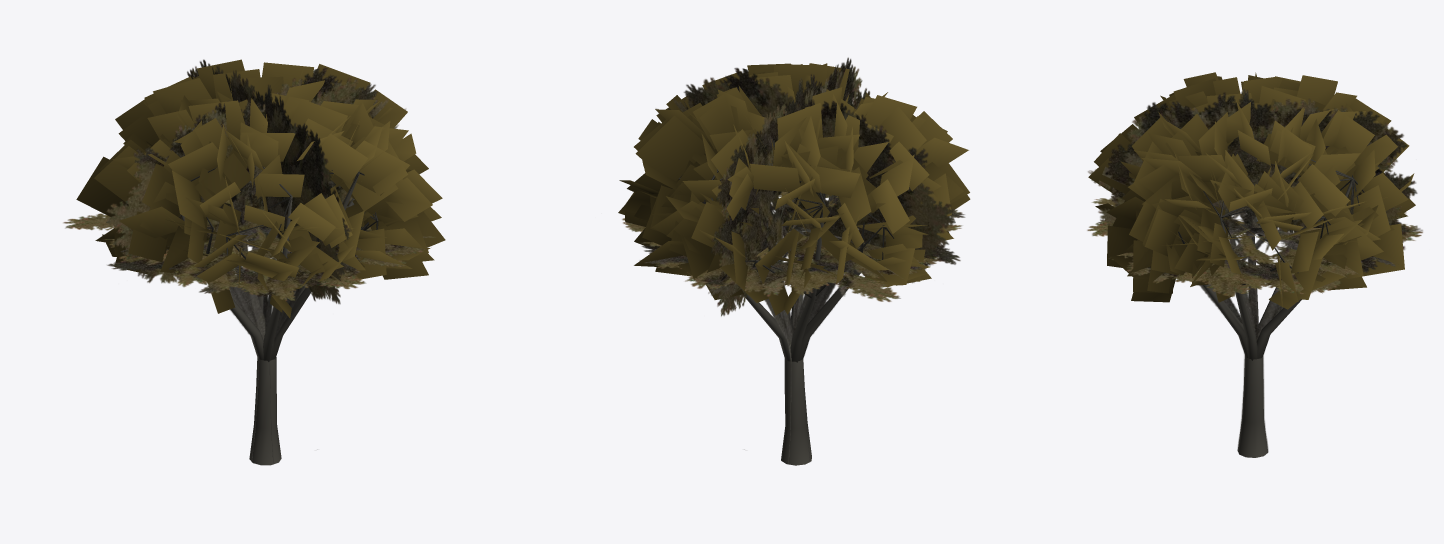
Rendered from veg.tree.keyaki.glb.
3 renders of one model, left to right at view 1: azimuth 30°, elevation 25°; view 2: azimuth 150°, elevation 25°; view 3: azimuth 270°, elevation 25°, orthographic. The views are drawn at different scales.
Parts seen in each view (by area): view 1: LOD0, IMP; view 2: LOD0, IMP; view 3: LOD0, IMP.
Part boxes in pixels (x1,y1,x2,y2): LOD0: (76,59,445,465); IMP: (63,59,436,462); LOD0: (618,63,970,465); IMP: (622,57,965,462); LOD0: (1088,72,1415,457); IMP: (1087,89,1422,451).
Size of what is drawn, in the model's own units: 9.58 by 10.95 by 9.58.
3 materials, 1 textured.
